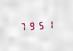five: (36, 19, 44, 30)
nine: (27, 20, 35, 31)
one: (45, 19, 53, 29)
seven: (18, 21, 26, 31)
